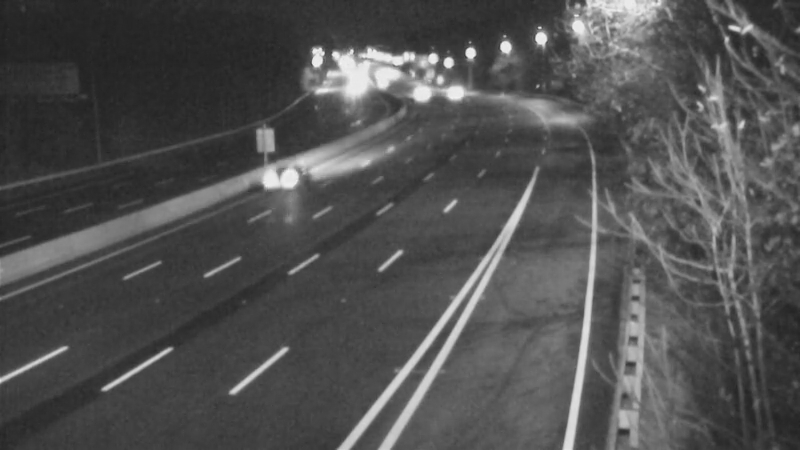vehicle: (240, 138, 320, 218), (357, 58, 407, 108), (430, 64, 480, 114), (394, 71, 444, 121)
